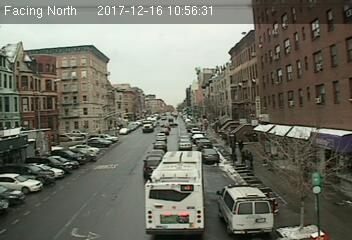bus: (143, 149, 208, 235)
car: (203, 148, 220, 162), (177, 138, 191, 149), (152, 140, 167, 149), (154, 133, 167, 141)
police: (214, 182, 276, 235)
